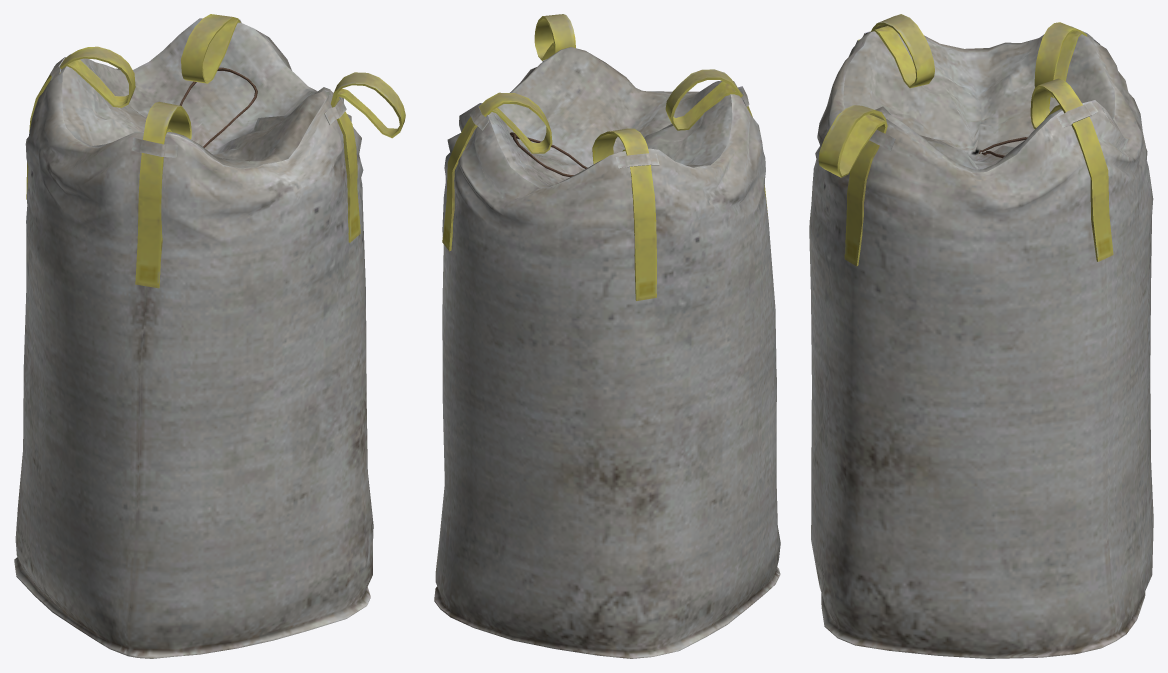
Rendered from sm22_050_sandbag01a.fbx.
3 renders of one model, left to right at view 1: azimuth 30°, elevation 25°; view 2: azimuth 150°, elevation 25°; view 3: azimuth 270°, elevation 25°, orthographic. The views are drawn at different scales.
Parts seen in each view (by area): view 1: LOD_1_Group_0_Sub_1__sm22_050_Sandbag01A_A_Mat; view 2: LOD_1_Group_0_Sub_1__sm22_050_Sandbag01A_A_Mat; view 3: LOD_1_Group_0_Sub_1__sm22_050_Sandbag01A_A_Mat.
Part boxes in pixels (box(x1,y1,x2,y2)): LOD_1_Group_0_Sub_1__sm22_050_Sandbag01A_A_Mat: box(14, 14, 405, 658); LOD_1_Group_0_Sub_1__sm22_050_Sandbag01A_A_Mat: box(434, 14, 780, 658); LOD_1_Group_0_Sub_1__sm22_050_Sandbag01A_A_Mat: box(809, 14, 1153, 658).
Bounding box in the file's own units: 1.24 × 2.22 × 1.24.
